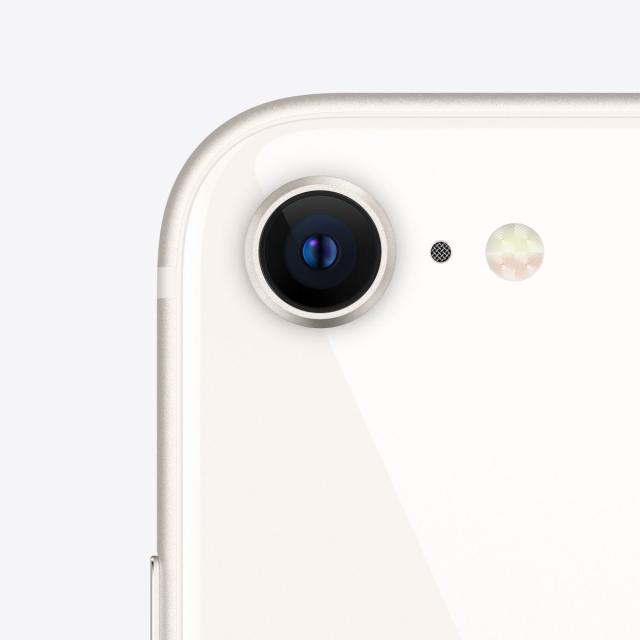mobile phone: (151, 91, 639, 638)
